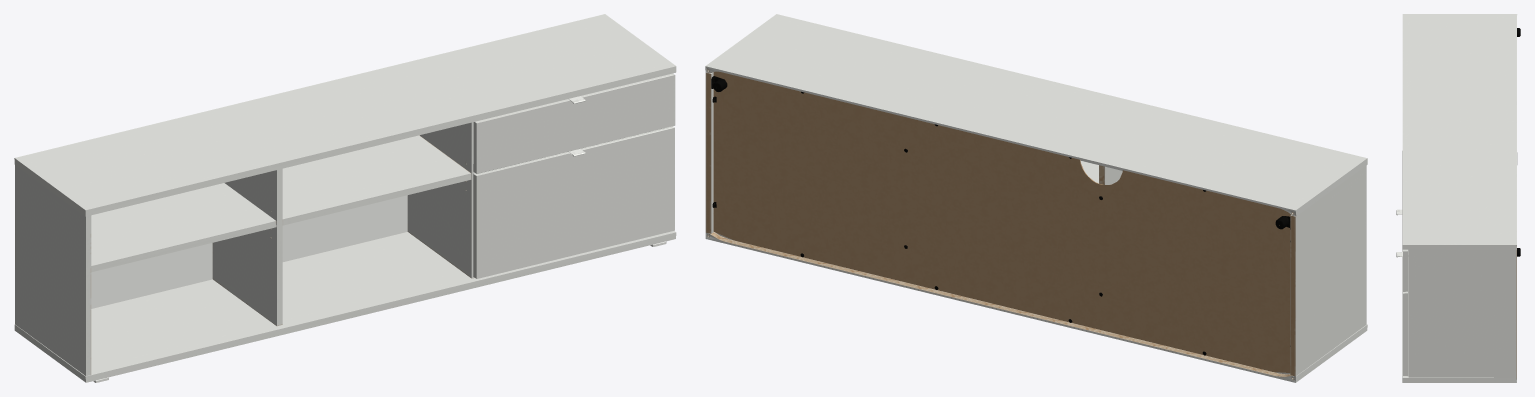
File: VIHALS TV unit - white.glb
3 views of the same model, side by side, from view 1: azimuth 30°, elevation 25°; view 2: azimuth 150°, elevation 25°; view 3: azimuth 270°, elevation 25° (orthographic). The views are drawn at different scales.
Visible parts, largest first — view 1: 80542857-VIHALS001; view 2: 80542857-VIHALS001; view 3: 80542857-VIHALS001.
Boxes of the visible parts, x1,y1,x2,y2 form: 80542857-VIHALS001: (14, 14, 676, 382); 80542857-VIHALS001: (705, 14, 1367, 382); 80542857-VIHALS001: (1396, 14, 1520, 382).
Bounding box in the file's own units: 1.76 × 0.5002 × 0.401.
1 material, 1 textured.
